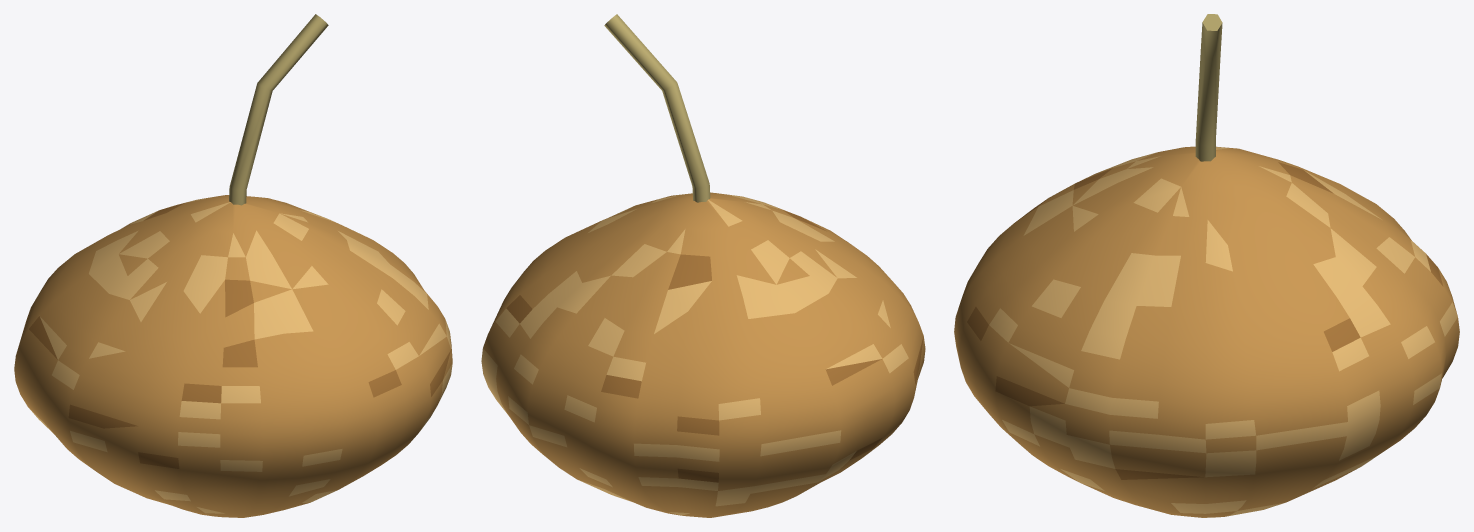
The model's file is onion_bulb.glb.
The picture shows the model from 3 angles, left to right: view 1: azimuth 30°, elevation 25°; view 2: azimuth 150°, elevation 25°; view 3: azimuth 270°, elevation 25°; orthographic projection. The views are drawn at different scales.
Visible parts, largest first — view 1: OwnerOnionBulb; view 2: OwnerOnionBulb; view 3: OwnerOnionBulb.
Part boxes in pixels (<box>): OwnerOnionBulb: <box>14,14,452,517</box>; OwnerOnionBulb: <box>481,14,925,517</box>; OwnerOnionBulb: <box>954,14,1459,517</box>.
Size of the model in its own units: 0.3017 by 0.3594 by 0.3017.
